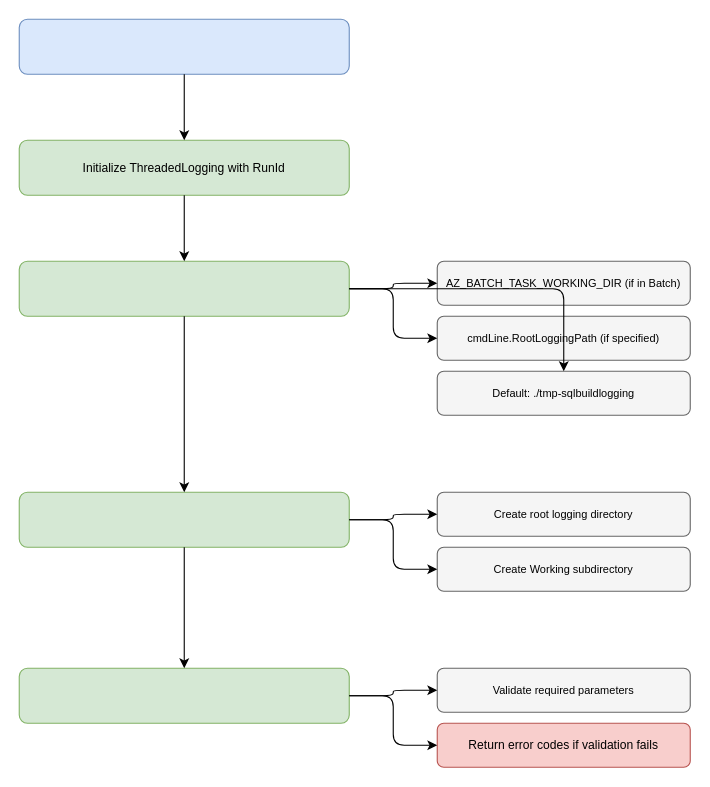
The diagram is 710 pixels wide and 787 high, and some of its shapes have lost their labels. Each missing label, with the centre of its shape:
Set root logging path: the point at 183,288
SetRootAndWorkingPaths(): the point at 183,519
ThreadedManager.ExecuteAsync(): the point at 183,46
Validation.ValidateCommon CommandLineArgs(): the point at 183,695
